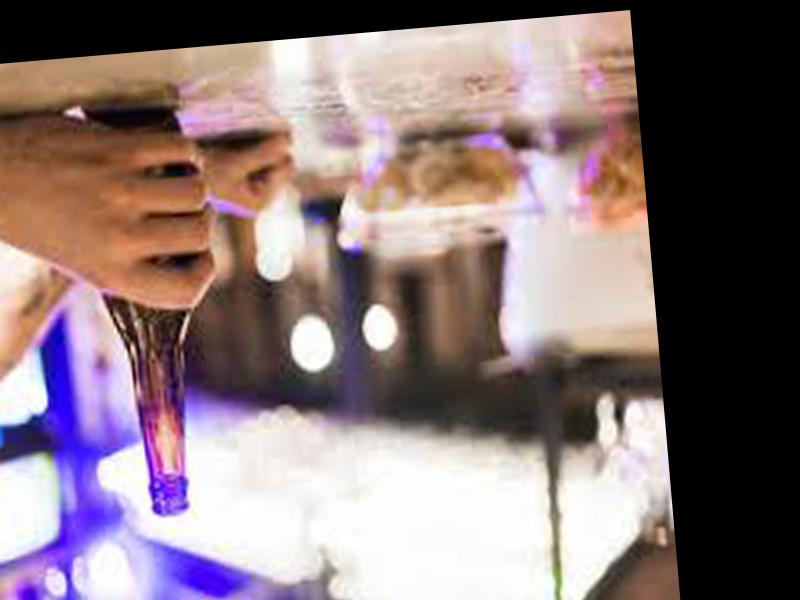Beer: (87, 107, 212, 520)
